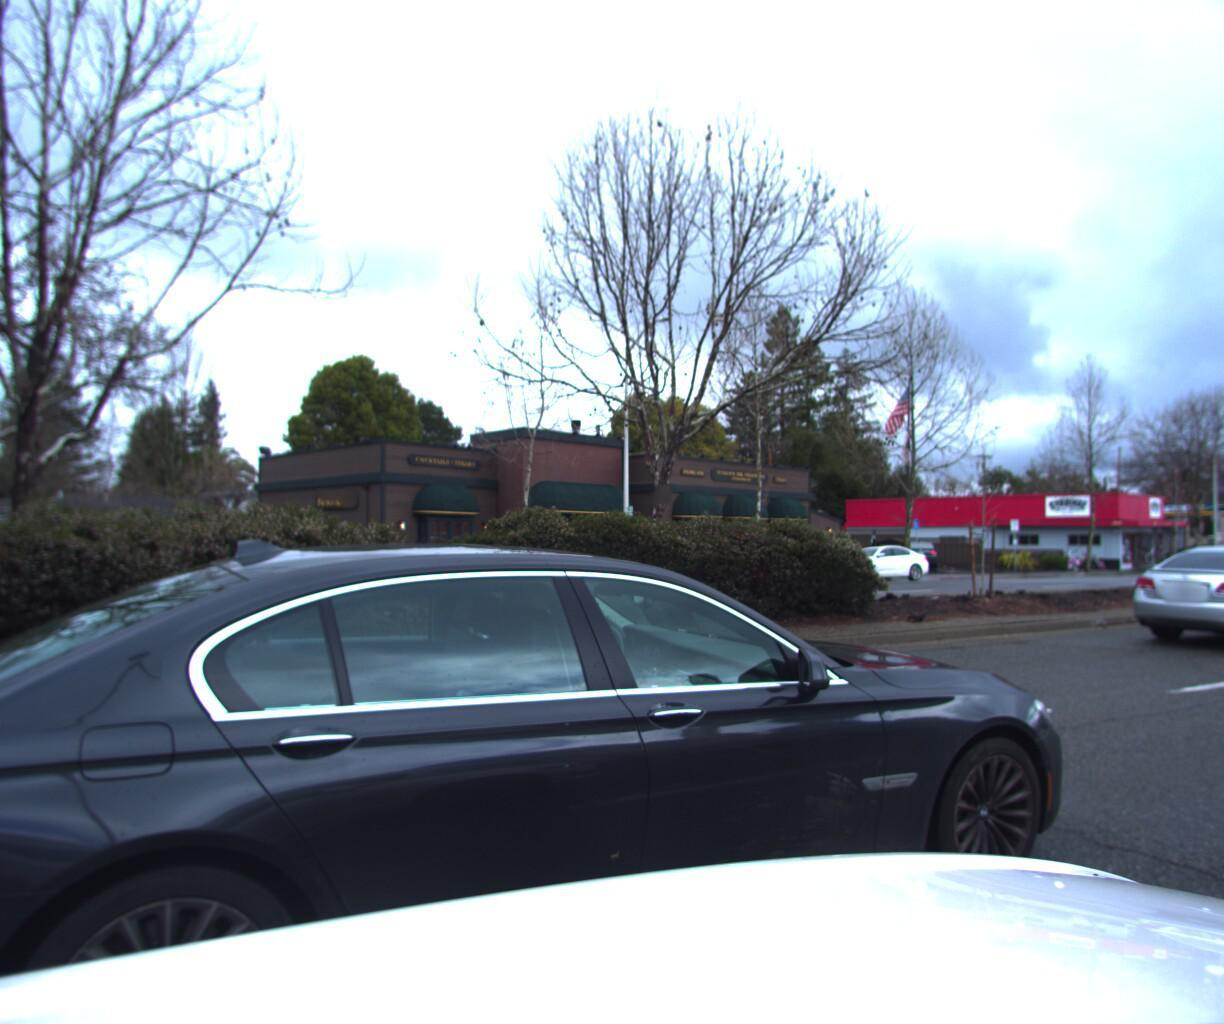car: (0, 526, 1114, 1024), (1103, 526, 1224, 655), (811, 534, 928, 580), (892, 529, 937, 564)
